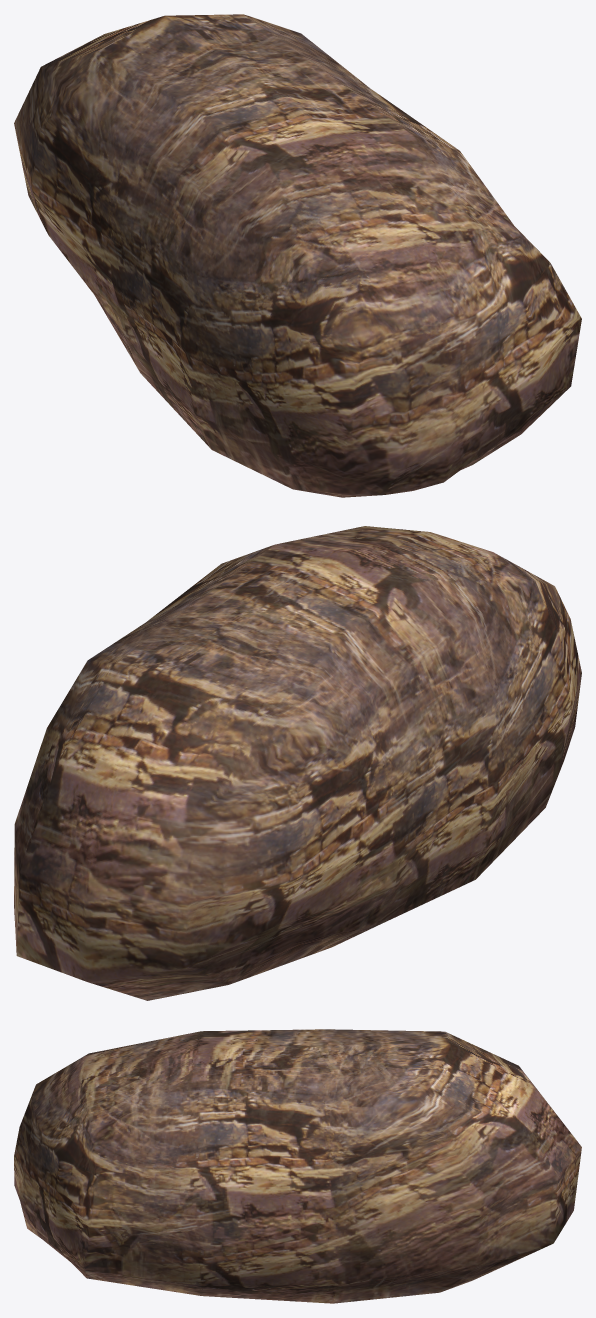
Rendered from mid_roche_2.fbx.
3 renders of one model, top to bottom at view 1: azimuth 30°, elevation 25°; view 2: azimuth 150°, elevation 25°; view 3: azimuth 270°, elevation 25°, orthographic. The views are drawn at different scales.
Visible parts, largest first — view 1: cube; view 2: cube; view 3: cube.
Boxes of the visible parts, x1,y1,x2,y2 form: cube: (14, 14, 581, 497); cube: (14, 526, 581, 1000); cube: (14, 1029, 581, 1303).
Size of the model in its own units: 434 by 387 by 891.
Materials: 1 (1 with a texture image).
